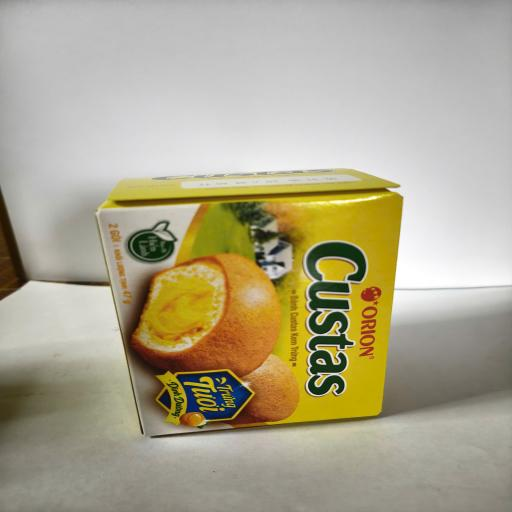custas: (94, 167, 404, 437)
